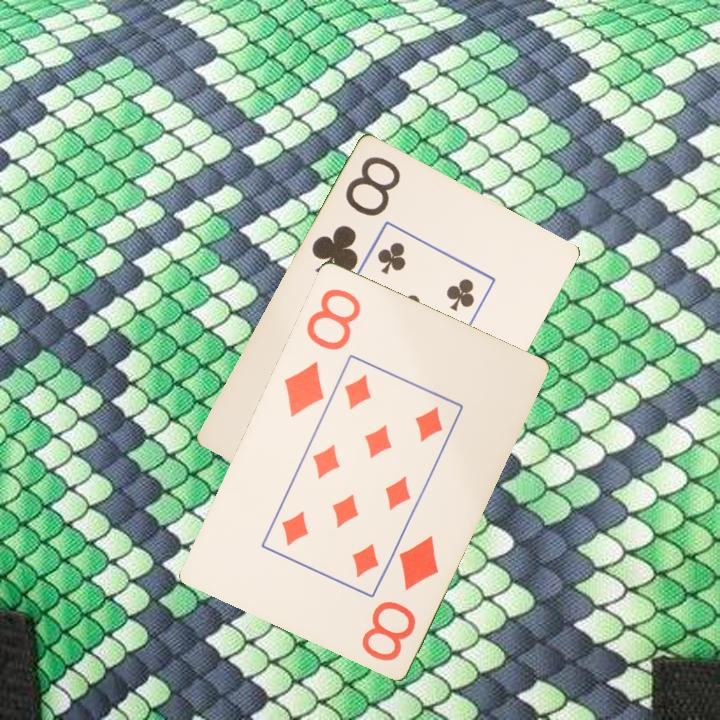8c: (308, 153, 404, 283)
8d: (280, 284, 364, 420), (357, 531, 442, 664)
